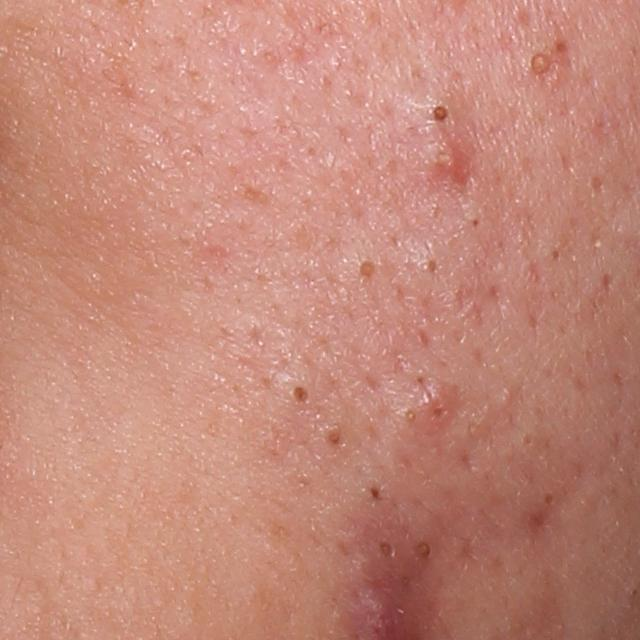comedo: (414, 94, 458, 138), (283, 372, 325, 412), (346, 244, 383, 288), (525, 47, 558, 84), (360, 475, 391, 506), (321, 424, 349, 455), (414, 531, 433, 564), (375, 536, 397, 562), (498, 384, 515, 405), (402, 404, 417, 426), (425, 256, 442, 274)
